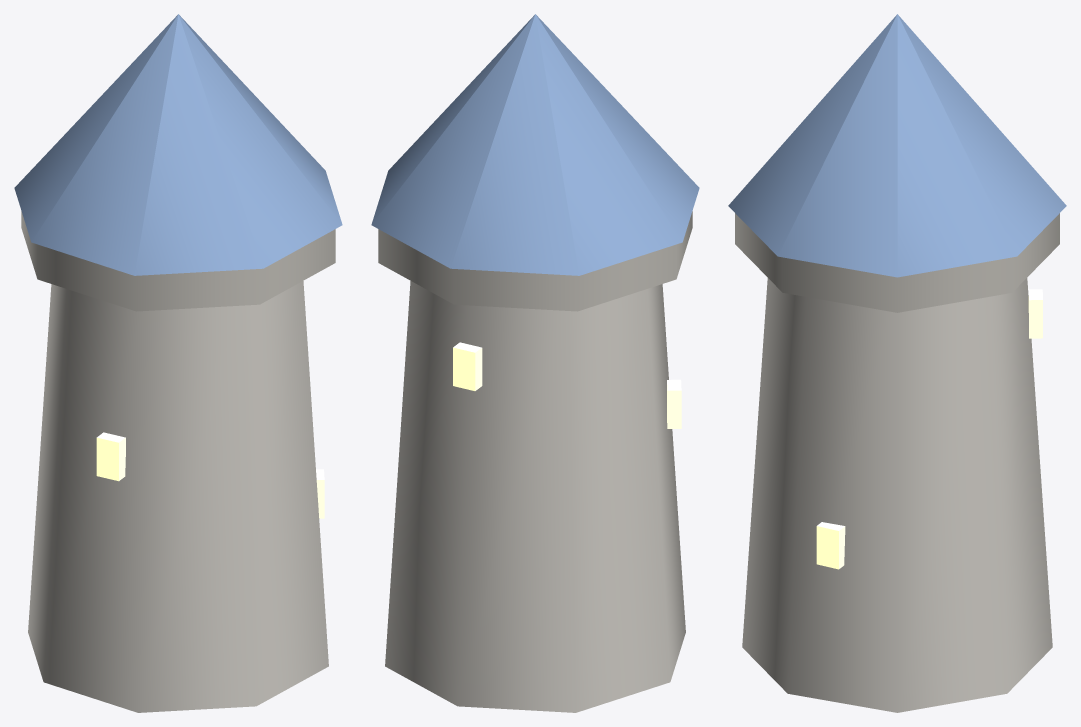
The model's file is fantasy_tower.glb.
3 renders of one model, left to right at view 1: azimuth 30°, elevation 25°; view 2: azimuth 150°, elevation 25°; view 3: azimuth 270°, elevation 25°, orthographic.
Parts seen in each view (by area): view 1: fantasy_tower; view 2: fantasy_tower; view 3: fantasy_tower.
Part boxes in pixels (x1,y1,x2,y2): fantasy_tower: (14, 14, 342, 712); fantasy_tower: (371, 14, 699, 712); fantasy_tower: (728, 14, 1066, 712).
Size of the model in its own units: 2.4 by 4.95 by 2.4.
